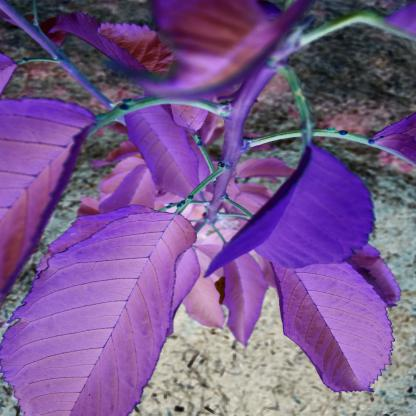Cherry leaf: (0, 200, 207, 412), (270, 247, 409, 400)
